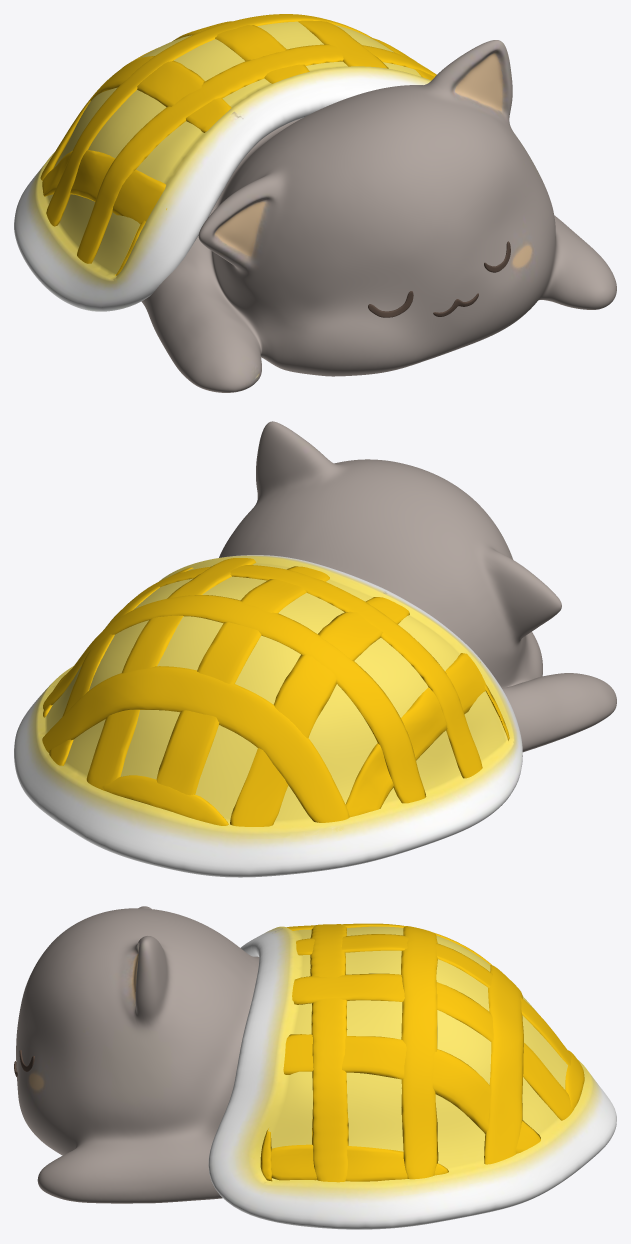
The model's file is chill_cat.glb.
3 views of the same model, one above another, from view 1: azimuth 30°, elevation 25°; view 2: azimuth 150°, elevation 25°; view 3: azimuth 270°, elevation 25° (orthographic). The views are drawn at different scales.
Visible parts, largest first — view 1: Chill_Cat; view 2: Chill_Cat; view 3: Chill_Cat.
Part boxes in pixels (<box>): Chill_Cat: <box>14,14,616,392</box>; Chill_Cat: <box>14,421,616,877</box>; Chill_Cat: <box>14,906,616,1229</box>.
Bounding box in the file's own units: 1.67 × 0.8828 × 2.
Materials: 1 (1 with a texture image).
